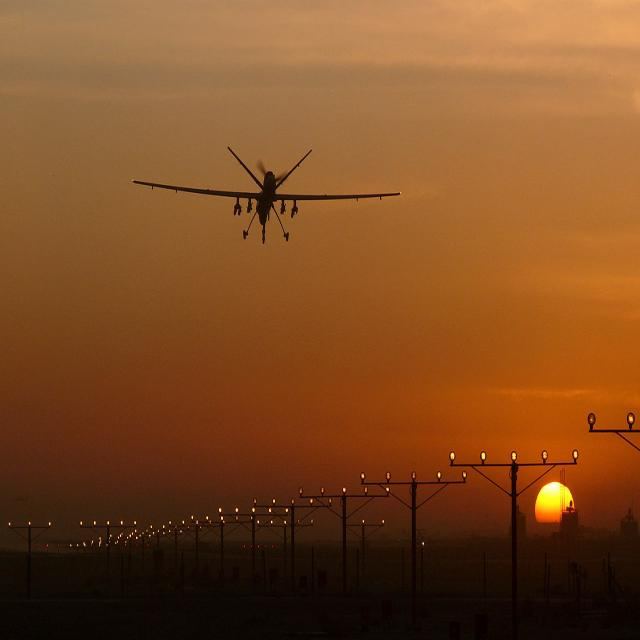MIL_Plane: (133, 145, 401, 244)
